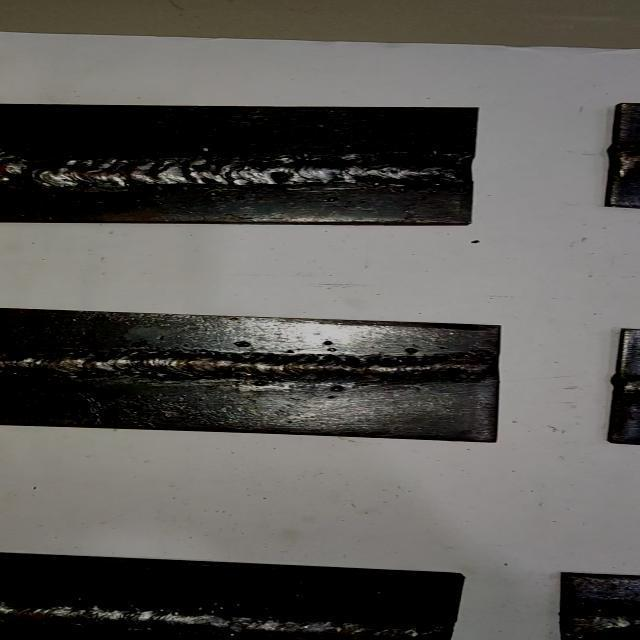Dry Waste: (21, 96, 484, 258), (74, 326, 474, 474), (16, 495, 374, 640)
